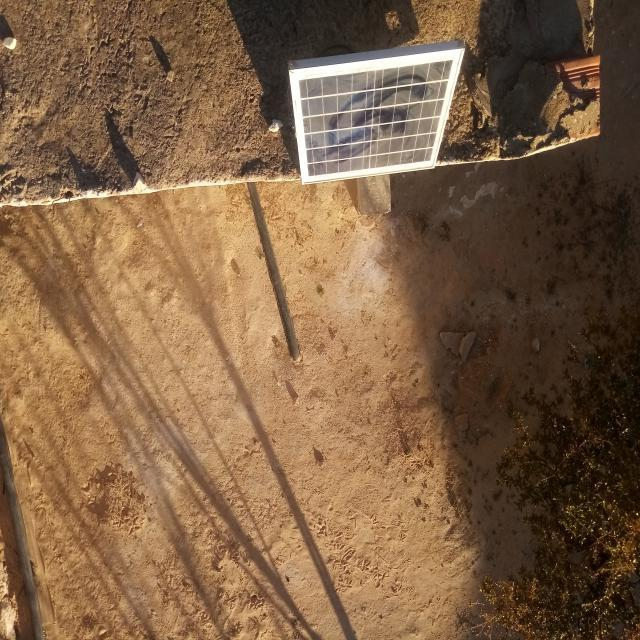faulty: (290, 48, 463, 183)
